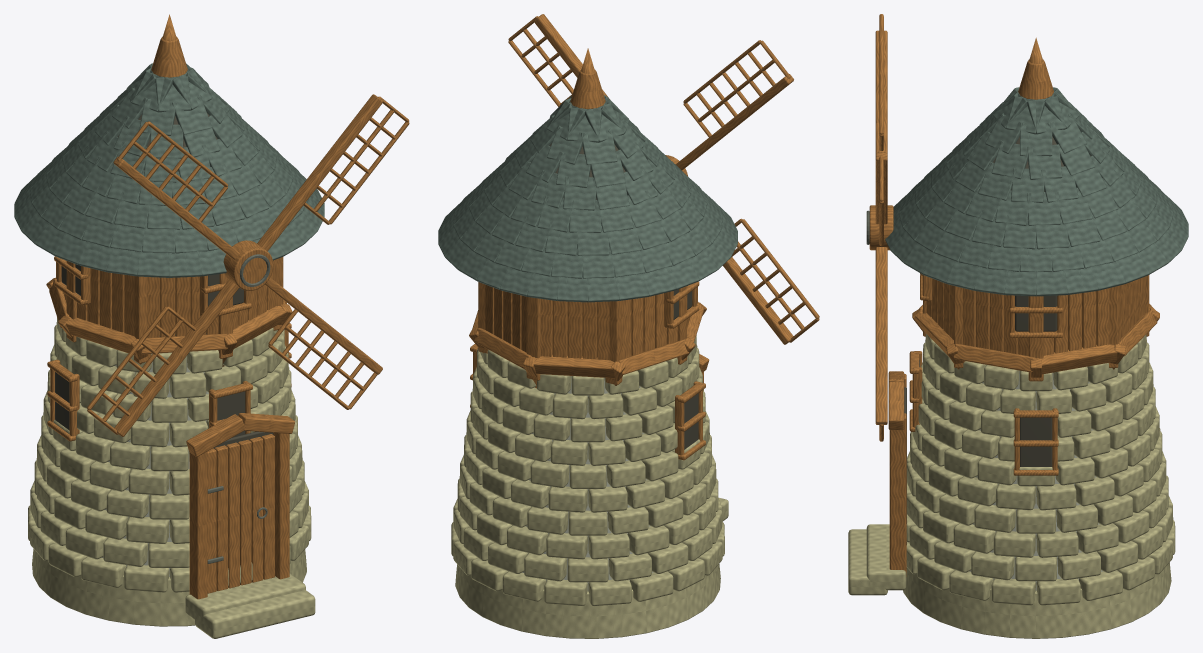
Rendered from windmill.glb.
The picture shows the model from 3 angles, left to right: view 1: azimuth 30°, elevation 25°; view 2: azimuth 150°, elevation 25°; view 3: azimuth 270°, elevation 25°; orthographic projection. The views are drawn at different scales.
Visible parts, largest first — view 1: WallsMesh, RoofMesh, DetailsMesh, RotorMesh, FoundationMesh, FrameMesh; view 2: WallsMesh, RoofMesh, FoundationMesh, RotorMesh, FrameMesh, DetailsMesh; view 3: WallsMesh, RoofMesh, FoundationMesh, DetailsMesh, FrameMesh, RotorMesh.
Part boxes in pixels (box(x1,y1,x2,y2)): WallsMesh: box(28, 259, 311, 592); RoofMesh: box(14, 14, 324, 277); DetailsMesh: box(47, 256, 294, 599); RotorMesh: box(87, 94, 409, 436); FoundationMesh: box(32, 549, 315, 638); FrameMesh: box(46, 257, 292, 366); WallsMesh: box(451, 284, 724, 605); RoofMesh: box(438, 48, 737, 302); FoundationMesh: box(455, 497, 728, 638); RotorMesh: box(508, 14, 819, 344); FrameMesh: box(469, 282, 706, 388); DetailsMesh: box(470, 281, 709, 460); WallsMesh: box(906, 276, 1175, 605); RoofMesh: box(885, 37, 1188, 296); FoundationMesh: box(848, 524, 1171, 638); DetailsMesh: box(888, 273, 1062, 576); FrameMesh: box(912, 275, 1159, 381); RotorMesh: box(866, 14, 893, 441).
Bounding box in the file's own units: 2.58 × 4.26 × 2.41.
7 materials, 3 textured.
